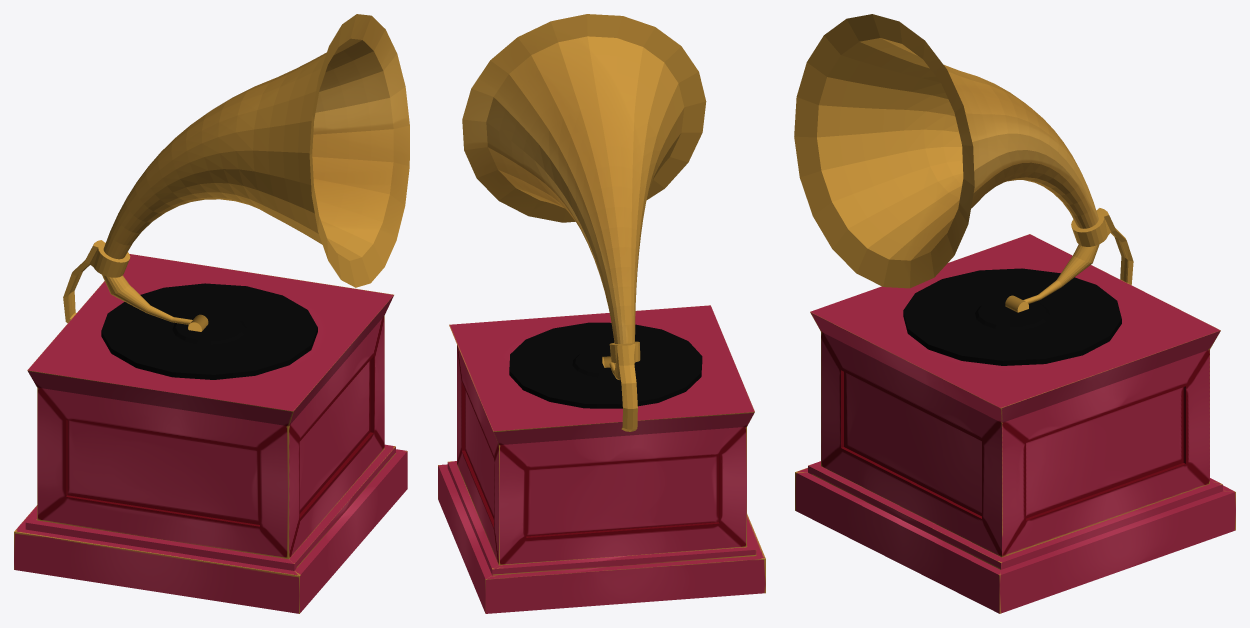
File: Gramaphone.FBX
The picture shows the model from 3 angles, left to right: view 1: azimuth 30°, elevation 25°; view 2: azimuth 150°, elevation 25°; view 3: azimuth 270°, elevation 25°; orthographic projection. The views are drawn at different scales.
Visible parts, largest first — view 1: grampphone, Tuba; view 2: grampphone, Tuba; view 3: grampphone, Tuba.
Boxes of the visible parts, x1=… form: grampphone: x1=14, y1=254, x2=407, y2=613; Tuba: x1=63, y1=14, x2=409, y2=324; grampphone: x1=438, y1=305, x2=765, y2=613; Tuba: x1=462, y1=14, x2=706, y2=431; grampphone: x1=795, y1=234, x2=1235, y2=613; Tuba: x1=794, y1=14, x2=1133, y2=303.
Size of the model in its own units: 148 by 148 by 198.
Materials: 3 (3 with a texture image).
